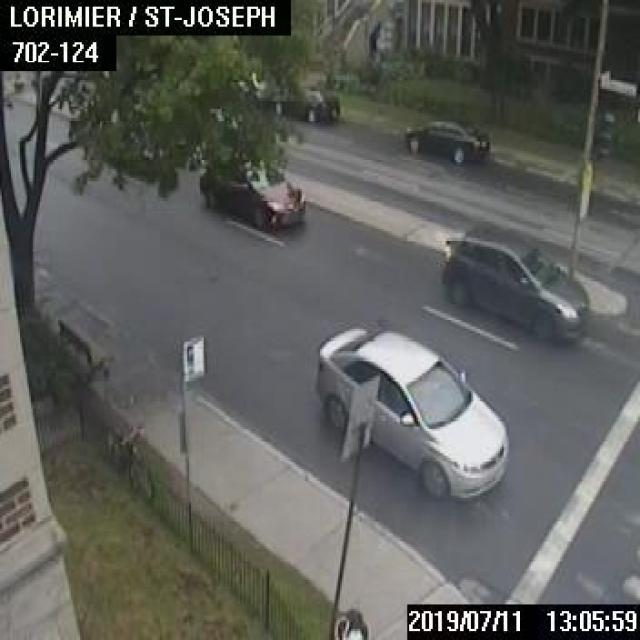vehicle: (315, 326, 507, 498), (440, 222, 589, 338), (198, 162, 304, 229), (403, 116, 488, 162), (282, 86, 338, 122)
